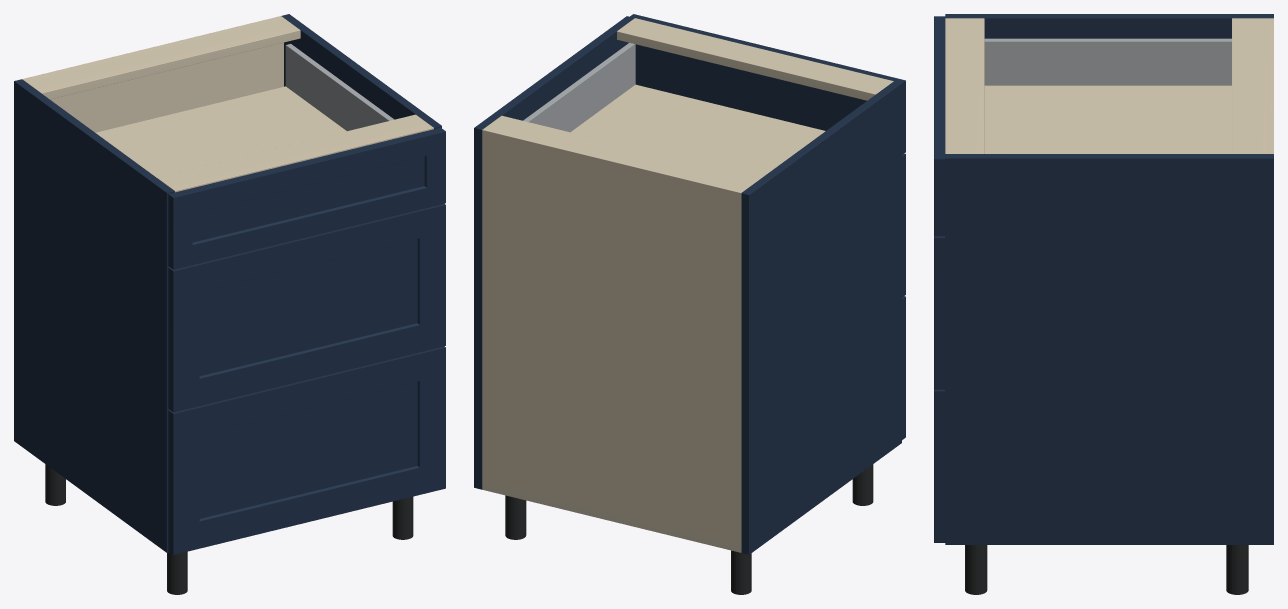
Rendered from oppein-ply-bss-3db24.glb.
3 renders of one model, left to right at view 1: azimuth 30°, elevation 25°; view 2: azimuth 150°, elevation 25°; view 3: azimuth 270°, elevation 25°, orthographic. The views are drawn at different scales.
Visible parts, largest first — view 1: Cabinet side, Drawer front.001, Drawer front, Drawer front.002, Drawer floor.002, Cabinet back, Top support rail, Top support rail.001, Drawer side.005, Cabinet side.001, Adjustable foot.003, Adjustable foot.001 (+1 smaller); view 2: Cabinet back, Cabinet side, Drawer floor.002, Drawer front.002, Top support rail.001, Cabinet side.001, Top support rail, Drawer side.005, Cabinet bottom, Adjustable foot.002, Adjustable foot, Adjustable foot.001 (+2 smaller); view 3: Cabinet side.001, Drawer floor.002, Drawer side.004, Cabinet side, Top support rail.001, Top support rail, Drawer front.002, Drawer front.001, Drawer front, Adjustable foot.002, Adjustable foot.003, Cabinet back.
Part boxes in pixels (x1=…): Cabinet side: x1=14, y1=79, x2=174, y2=552; Drawer front.001: x1=168, y1=203, x2=445, y2=412; Drawer front: x1=168, y1=346, x2=445, y2=554; Drawer front.002: x1=168, y1=127, x2=445, y2=269; Drawer floor.002: x1=95, y1=86, x2=346, y2=177; Cabinet back: x1=22, y1=16, x2=283, y2=132; Top support rail: x1=24, y1=18, x2=300, y2=99; Top support rail.001: x1=157, y1=114, x2=433, y2=192; Drawer side.005: x1=285, y1=44, x2=393, y2=131; Cabinet side.001: x1=281, y1=14, x2=441, y2=128; Adjustable foot.003: x1=392, y1=496, x2=413, y2=539; Adjustable foot.001: x1=167, y1=551, x2=187, y2=594; Cabinet back: x1=482, y1=127, x2=743, y2=552; Cabinet side: x1=741, y1=81, x2=901, y2=554; Drawer floor.002: x1=570, y1=84, x2=825, y2=178; Drawer front.002: x1=630, y1=14, x2=905, y2=154; Top support rail.001: x1=617, y1=18, x2=893, y2=100; Cabinet side.001: x1=474, y1=16, x2=634, y2=489; Top support rail: x1=486, y1=115, x2=759, y2=191; Drawer side.005: x1=523, y1=43, x2=635, y2=132; Cabinet bottom: x1=482, y1=481, x2=740, y2=552; Adjustable foot.002: x1=505, y1=495, x2=526, y2=539; Adjustable foot: x1=731, y1=550, x2=751, y2=594; Adjustable foot.001: x1=852, y1=464, x2=873, y2=505; Cabinet side.001: x1=945, y1=154, x2=1273, y2=544; Drawer floor.002: x1=984, y1=85, x2=1231, y2=153; Drawer side.004: x1=984, y1=38, x2=1231, y2=85; Cabinet side: x1=945, y1=14, x2=1273, y2=38; Top support rail.001: x1=945, y1=18, x2=984, y2=153; Top support rail: x1=1232, y1=18, x2=1267, y2=153; Drawer front.002: x1=934, y1=16, x2=945, y2=236; Drawer front.001: x1=934, y1=236, x2=945, y2=389; Drawer front: x1=934, y1=389, x2=945, y2=542; Adjustable foot.002: x1=1226, y1=545, x2=1248, y2=594; Adjustable foot.003: x1=965, y1=545, x2=987, y2=594; Cabinet back: x1=1267, y1=18, x2=1273, y2=153.
Bounding box in the file's own units: 0.6096 × 0.8763 × 0.6064.
